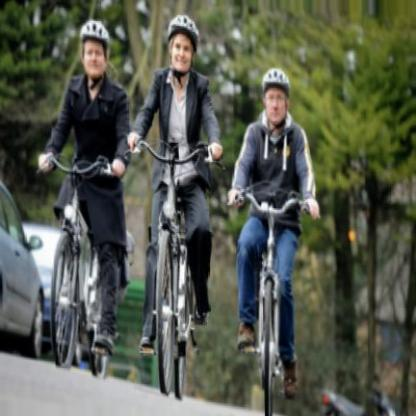with helmet: (166, 13, 200, 76), (78, 20, 113, 80), (260, 66, 291, 124)
